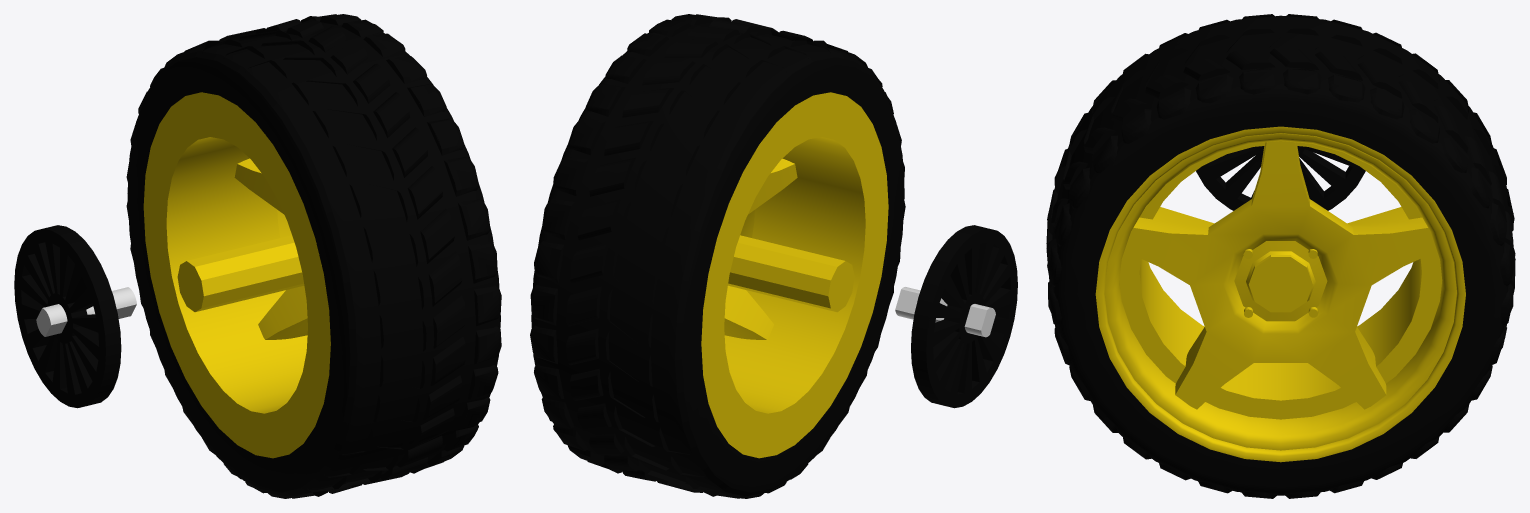
Rendered from WheelAssy.glb.
The picture shows the model from 3 angles, left to right: view 1: azimuth 30°, elevation 25°; view 2: azimuth 150°, elevation 25°; view 3: azimuth 270°, elevation 25°; orthographic projection.
Parts seen in each view (by area): view 1: Circle.008, Circle.009, Circle.004, Cylinder.015, Cylinder.016, Cylinder.013; view 2: Circle.008, Circle.009, Circle.004, Cylinder.015, Cylinder.016, Cylinder.013; view 3: Circle.008, Circle.009, Cylinder.016, Circle.004, Cylinder.015.
Boxes of the visible parts, bbox=[...] form: Circle.008: bbox=[127, 22, 500, 496]; Circle.009: bbox=[143, 92, 330, 458]; Circle.004: bbox=[126, 14, 501, 498]; Cylinder.015: bbox=[14, 225, 121, 408]; Cylinder.016: bbox=[177, 158, 307, 339]; Cylinder.013: bbox=[36, 287, 136, 336]; Circle.008: bbox=[531, 22, 904, 496]; Circle.009: bbox=[701, 92, 888, 458]; Circle.004: bbox=[530, 14, 905, 498]; Cylinder.015: bbox=[911, 225, 1017, 408]; Cylinder.016: bbox=[724, 158, 854, 339]; Cylinder.013: bbox=[895, 287, 995, 337]; Circle.008: bbox=[1052, 15, 1508, 495]; Circle.009: bbox=[1095, 126, 1465, 462]; Cylinder.016: bbox=[1124, 141, 1436, 409]; Circle.004: bbox=[1046, 14, 1515, 498]; Cylinder.015: bbox=[1196, 146, 1365, 210].
Bounding box in the file's own units: 0.5717 × 0.6672 × 0.6676.
